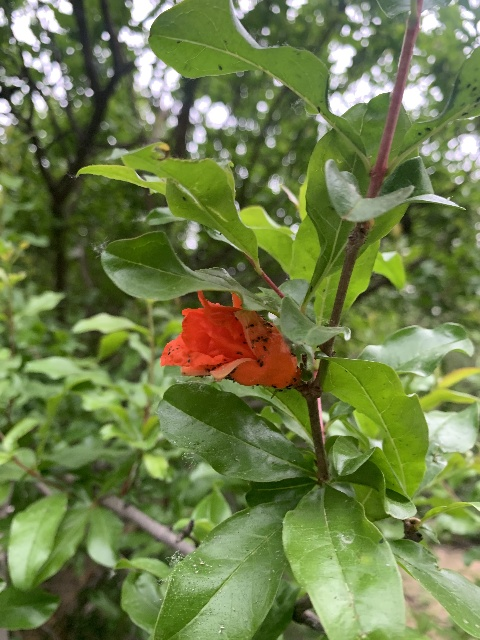flower: (160, 289, 298, 387)
